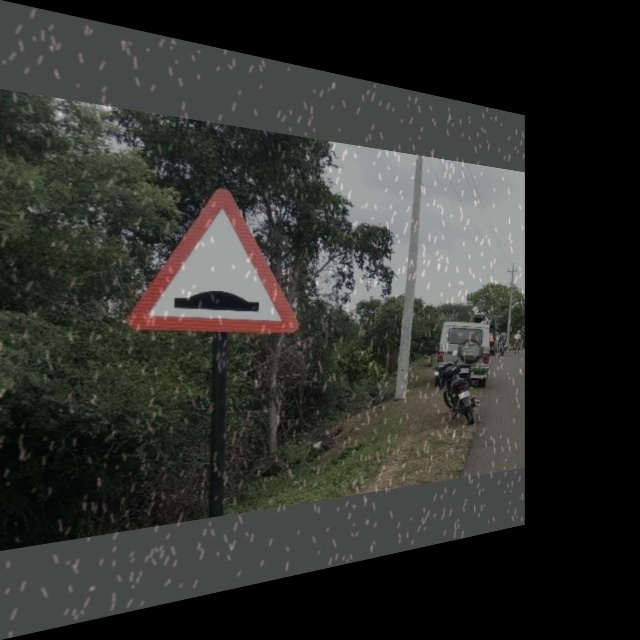Dangerous_Dip: (133, 177, 296, 337)
